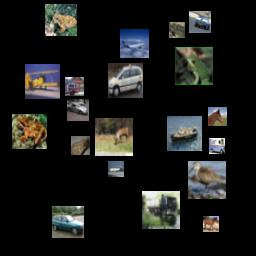airplane: (25, 64, 60, 99), (120, 29, 149, 58), (108, 161, 124, 177)
automobile: (108, 63, 143, 98), (52, 206, 84, 238), (67, 99, 89, 121), (189, 11, 211, 33)
bird: (188, 161, 226, 199)
deer: (95, 118, 133, 156)
frog: (175, 47, 213, 85), (12, 114, 47, 149), (45, 4, 77, 36), (71, 136, 90, 155), (169, 22, 185, 38)
ship: (167, 116, 202, 151)
truck: (142, 191, 180, 229), (65, 77, 84, 96), (209, 138, 225, 154)
